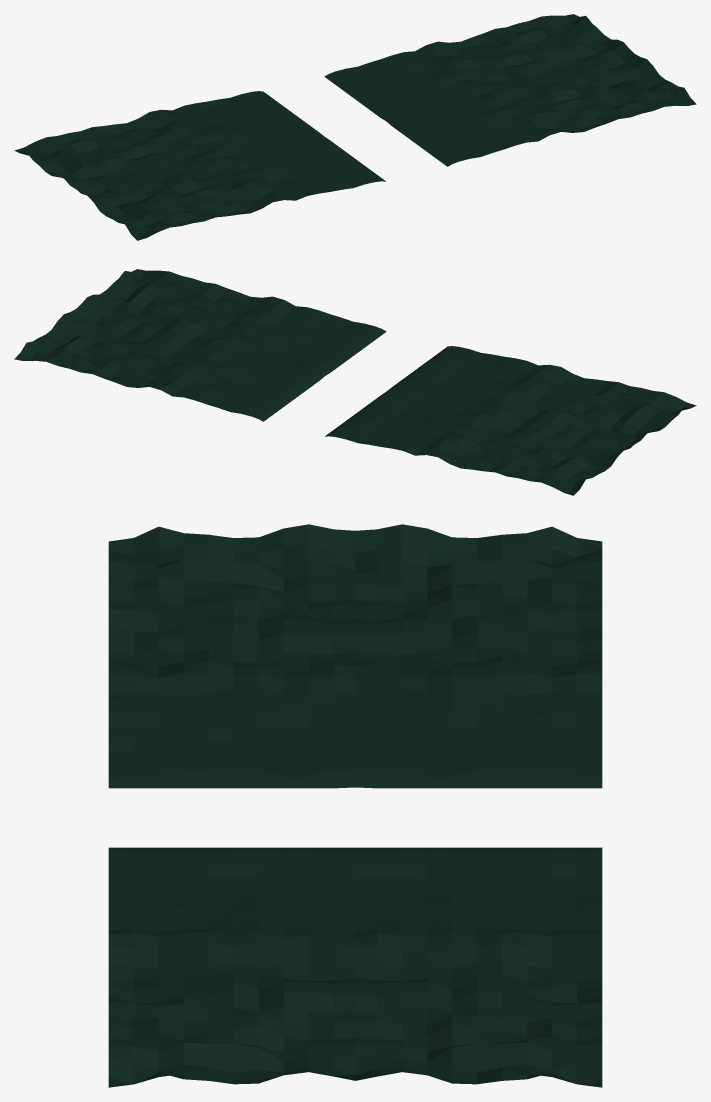
The model's file is ground.glb.
3 renders of one model, top to bottom at view 1: azimuth 30°, elevation 25°; view 2: azimuth 150°, elevation 25°; view 3: azimuth 270°, elevation 25°, orthographic. The views are drawn at different scales.
Parts seen in each view (by area): view 1: ground; view 2: ground; view 3: ground.
Boxes of the visible parts, left/top/right/bottom form: ground: left=14, top=14, right=696, bottom=240; ground: left=14, top=269, right=696, bottom=495; ground: left=108, top=524, right=602, bottom=1087.
Bounding box in the file's own units: 1309 × 28.69 × 500.
